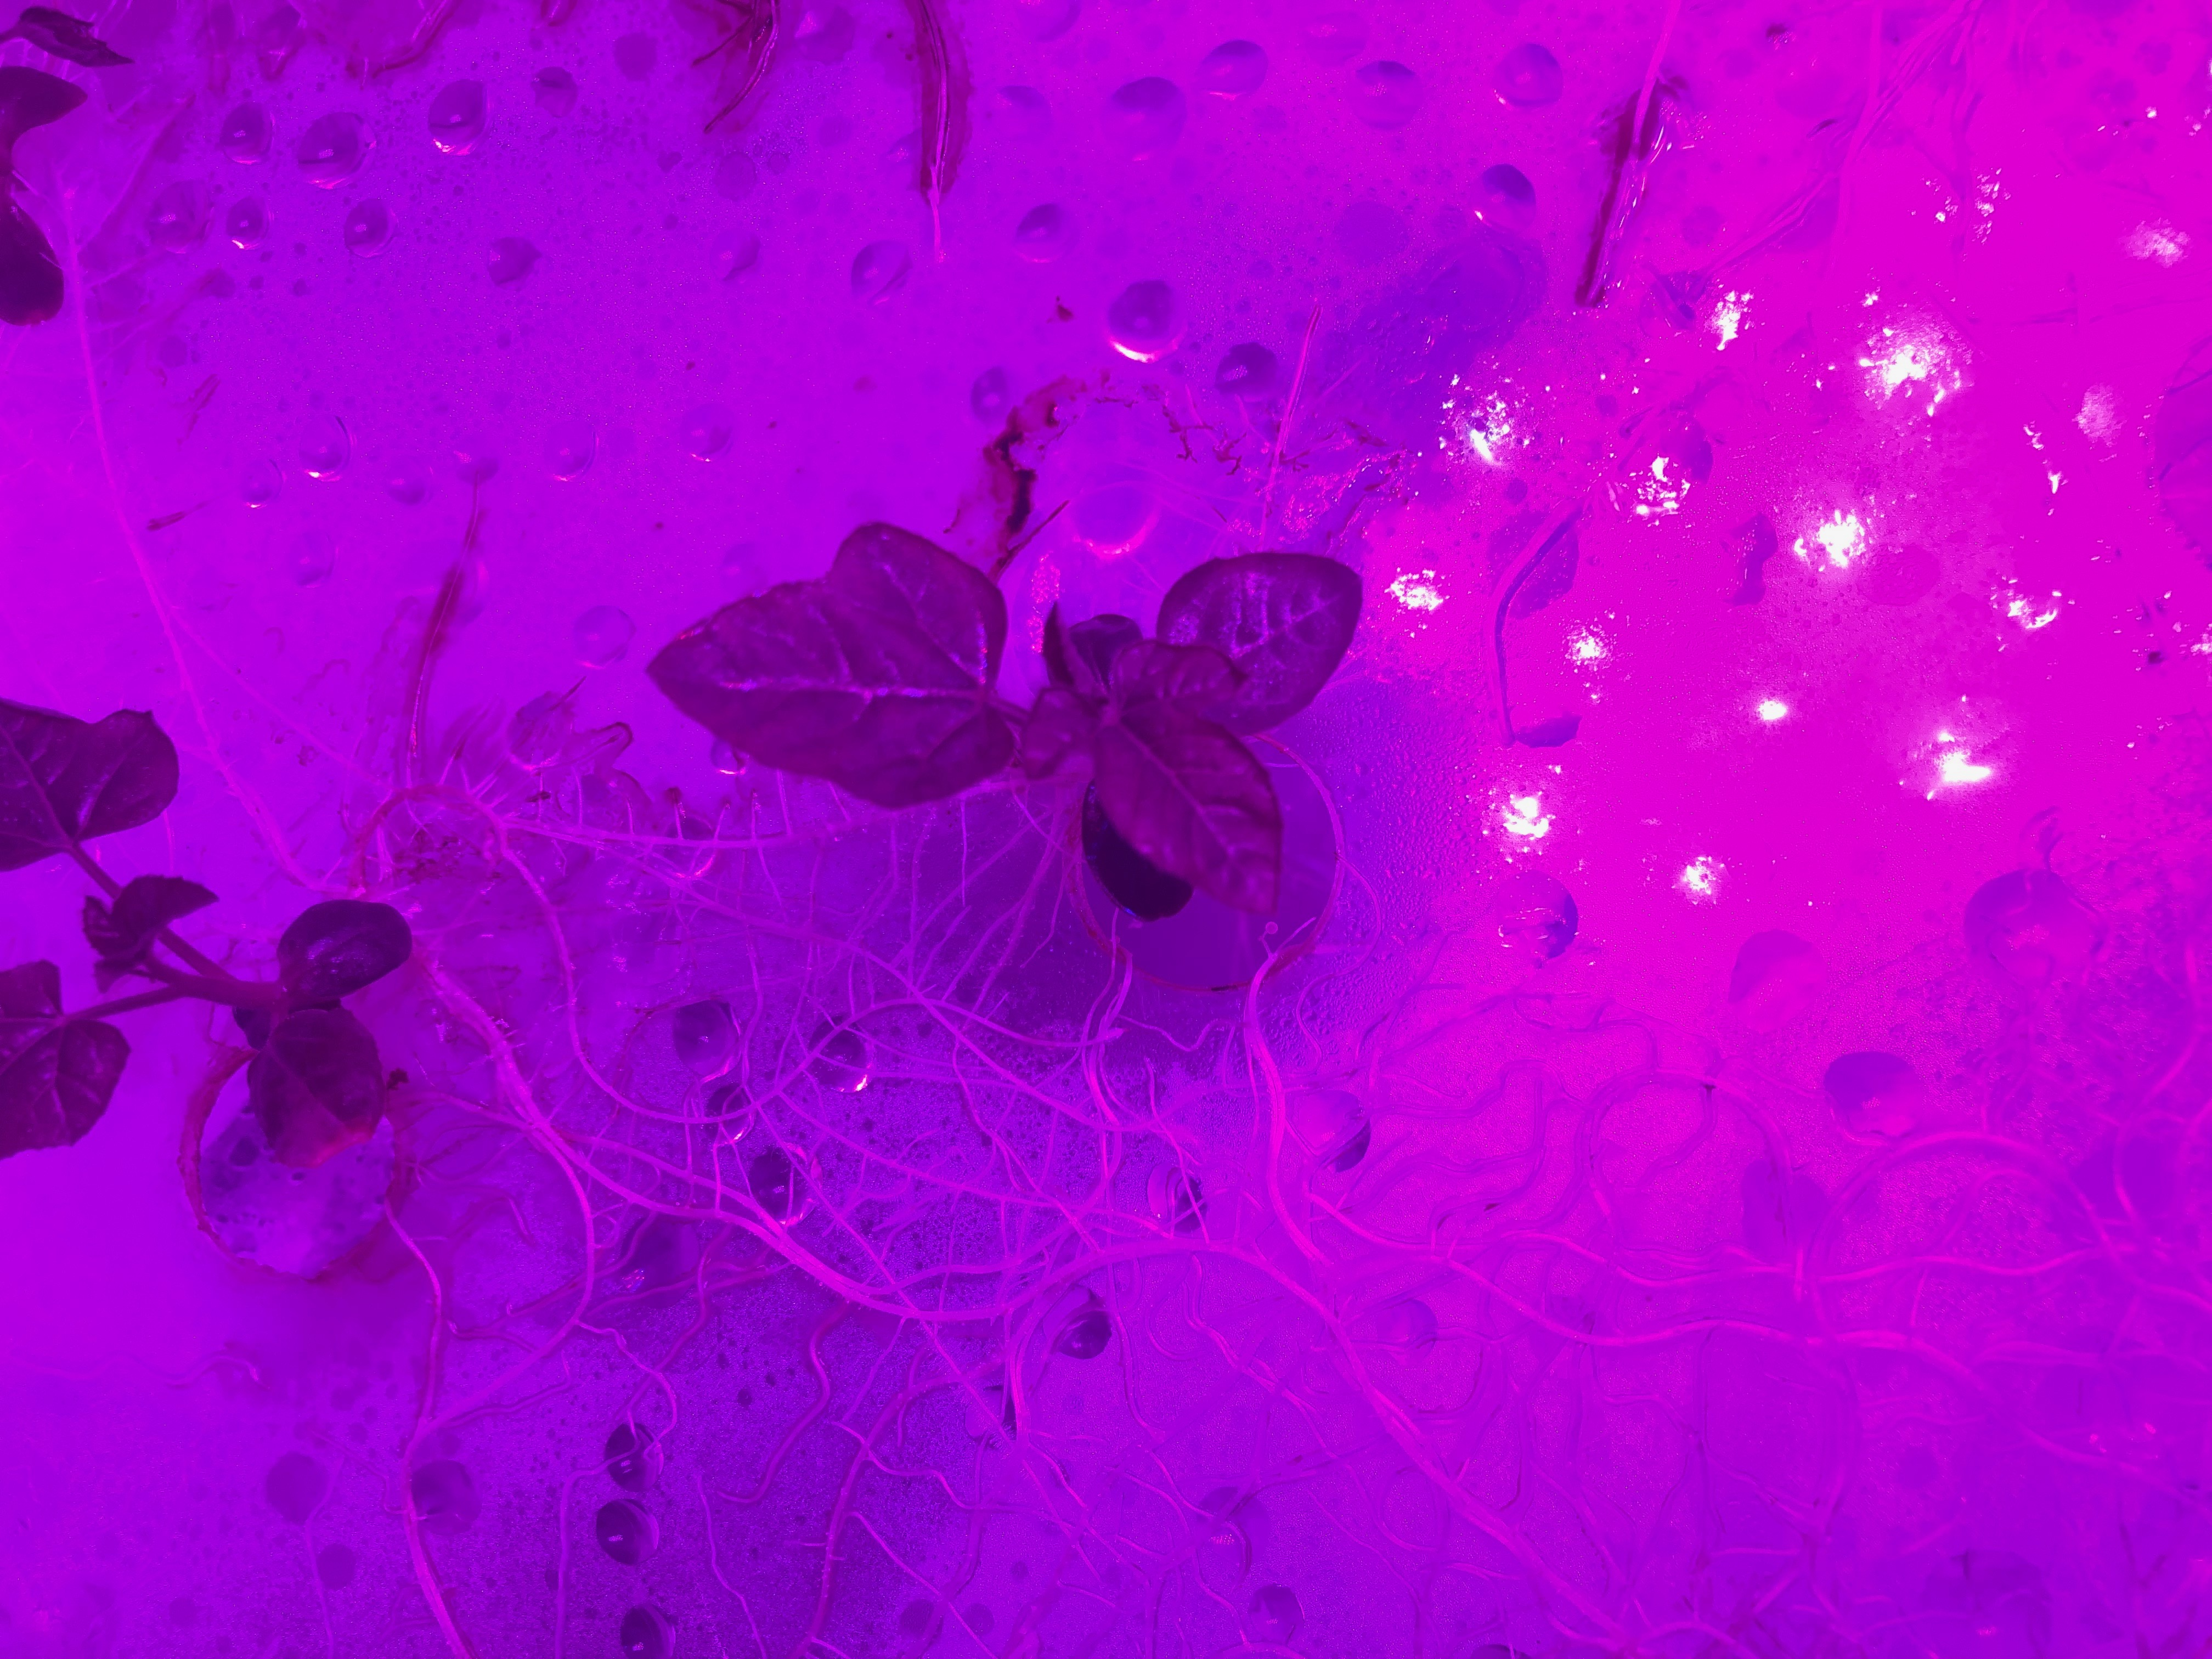seedling: (674, 455, 1430, 1084), (0, 603, 474, 1251)
